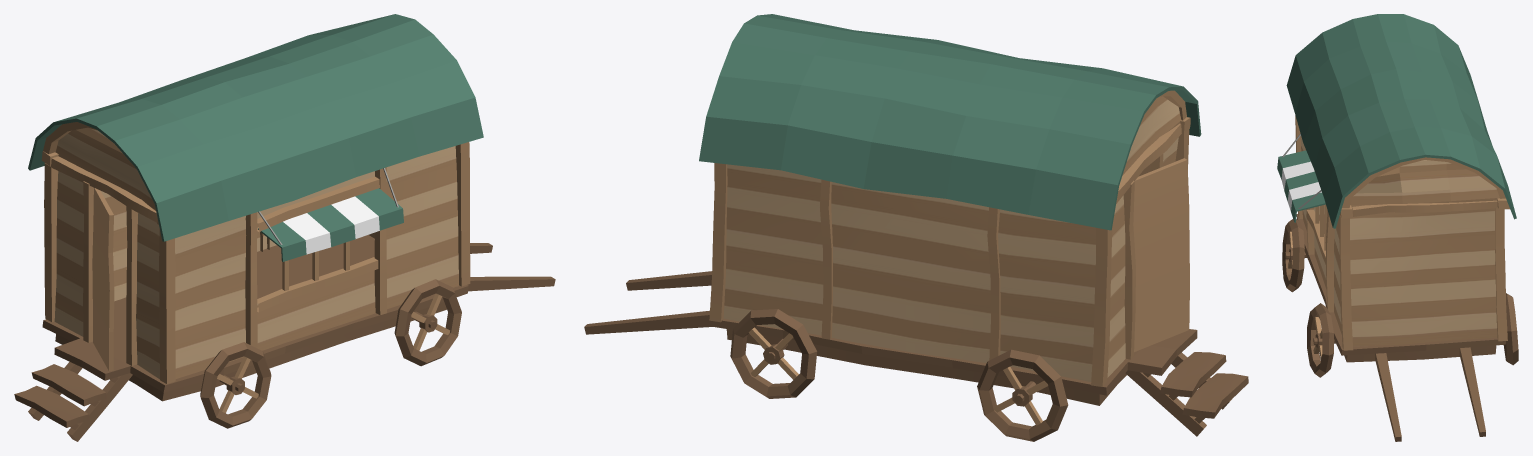
File: carava verde.fbx
The picture shows the model from 3 angles, left to right: view 1: azimuth 30°, elevation 25°; view 2: azimuth 150°, elevation 25°; view 3: azimuth 270°, elevation 25°; orthographic projection. The views are drawn at different scales.
Parts seen in each view (by area): view 1: caravan1; view 2: caravan1; view 3: caravan1.
Part boxes in pixels (x1,y1,x2,y2): caravan1: [14, 14, 555, 441]; caravan1: [584, 14, 1248, 441]; caravan1: [1277, 14, 1518, 441].
Size of the model in its own units: 653 by 339 by 303.
Materials: 1 (1 with a texture image).
